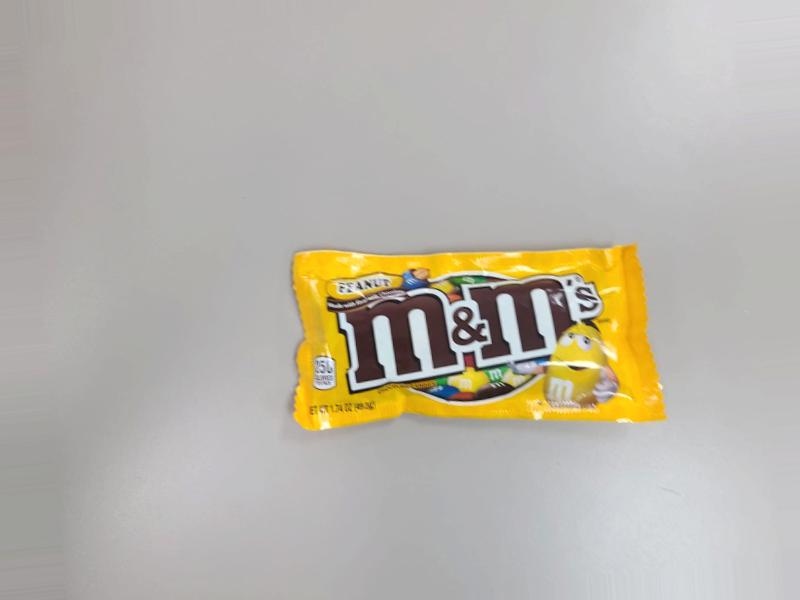m&m: (289, 221, 728, 436)
